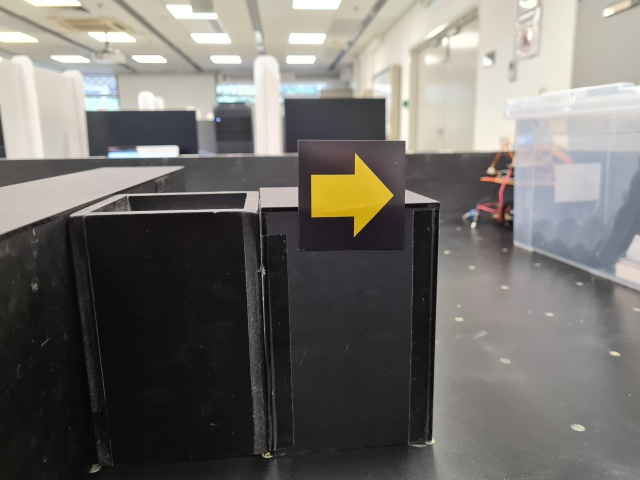right_arrow: (298, 138, 406, 250)
